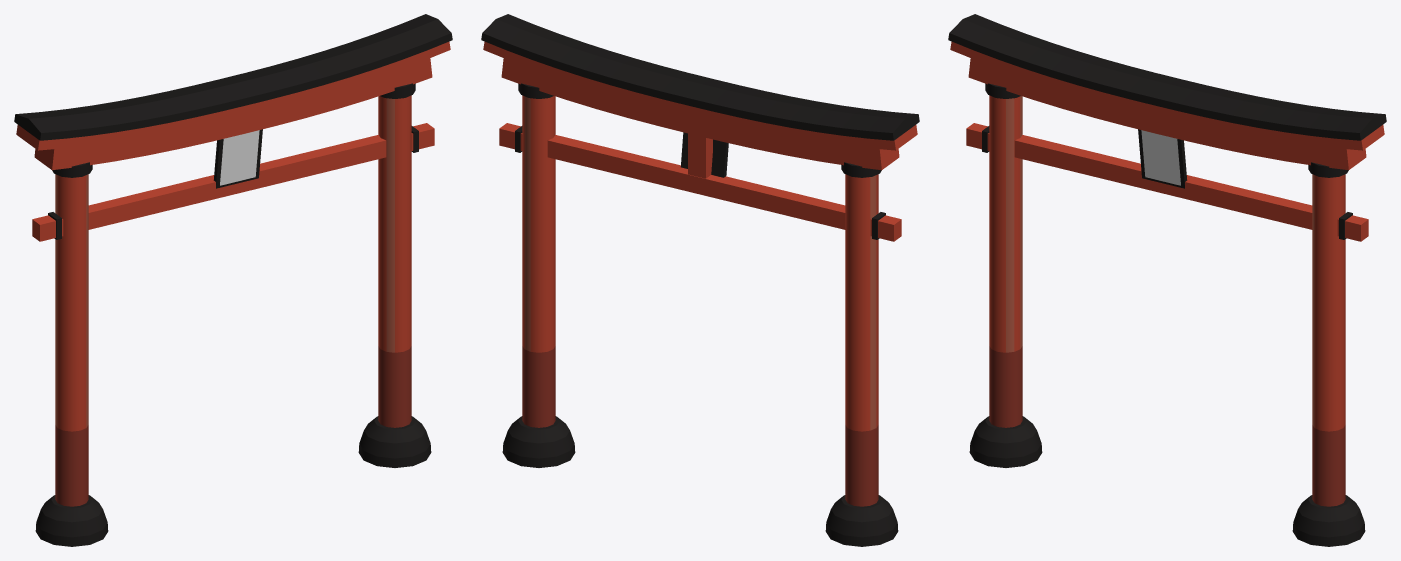
File: torii.glb
3 renders of one model, left to right at view 1: azimuth 30°, elevation 25°; view 2: azimuth 150°, elevation 25°; view 3: azimuth 330°, elevation 25°, orthographic.
Visible parts, largest first — view 1: kasagi, pillar_l, pillar_r, nuki, plaque; view 2: kasagi, pillar_l, pillar_r, nuki; view 3: kasagi, pillar_r, pillar_l, nuki, plaque.
Boxes of the visible parts, x1,y1,x2,y2 form: kasagi: (14, 14, 452, 170); pillar_l: (35, 162, 108, 546); pillar_r: (358, 83, 431, 467); nuki: (32, 123, 434, 241); plaque: (220, 130, 259, 185); kasagi: (481, 14, 919, 170); pillar_l: (825, 162, 898, 546); pillar_r: (502, 83, 575, 467); nuki: (499, 123, 901, 241); kasagi: (948, 14, 1386, 170); pillar_r: (1292, 162, 1365, 546); pillar_l: (969, 83, 1042, 467); nuki: (966, 123, 1368, 241); plaque: (1141, 130, 1180, 185).
Bounding box in the file's own units: 4.6 × 4.51 × 0.7.
